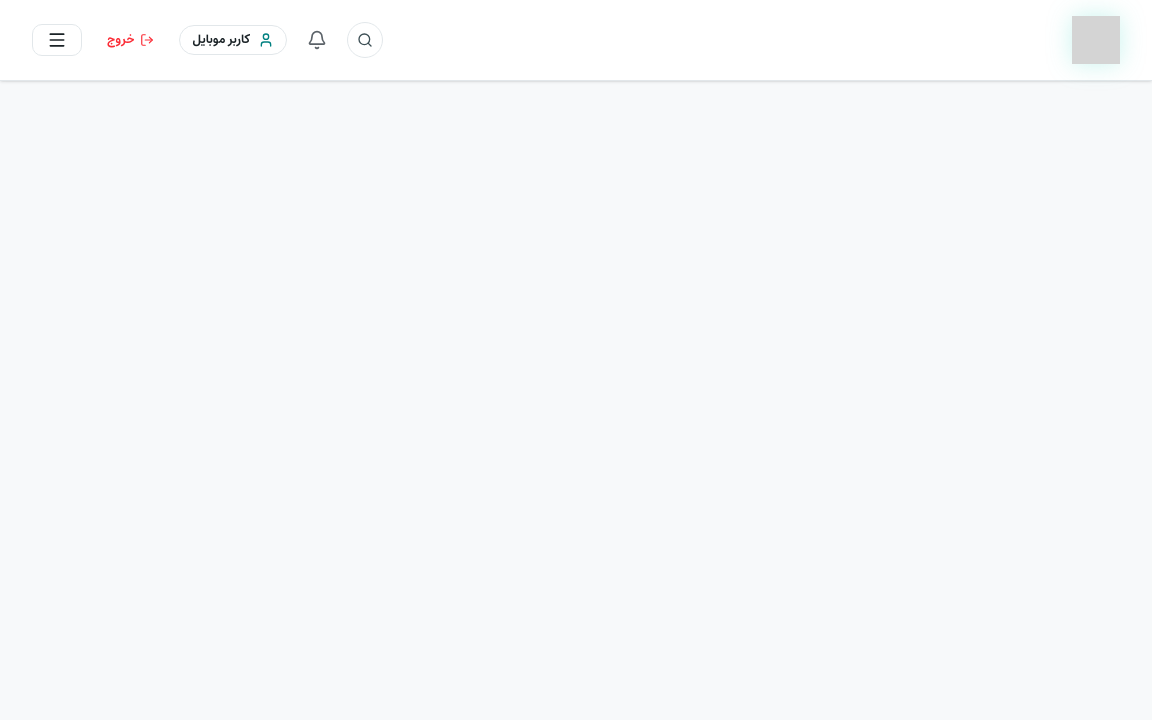
Test: AuthenticatedShell › does not render 'تنظیمات' option in the mobile navigation drawer
The image size is (1152, 720).
Check: the text "کاربر موبایل" is shown, box left=192, top=32, right=250, bottom=48
// Open the mobile menu drawer
Click the button named "منو" at (57, 40), box left=32, top=24, right=82, bottom=56
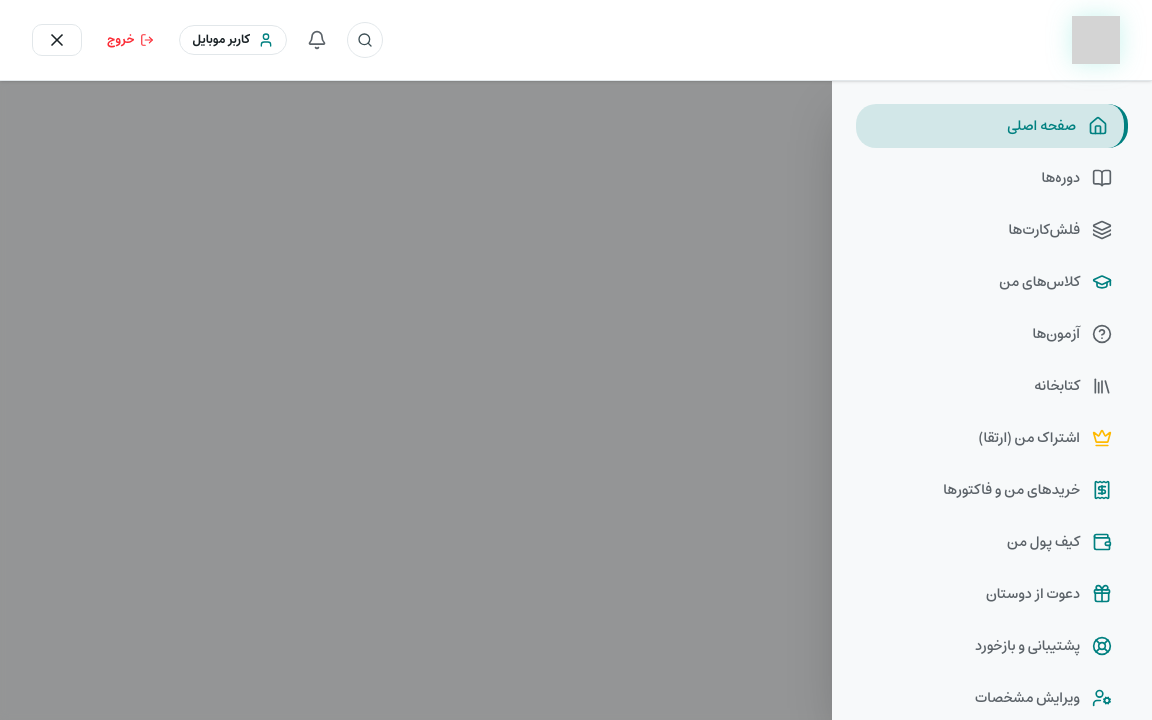
Check: the text "پشتیبانی و بازخورد" is shown, box left=975, top=636, right=1080, bottom=656
